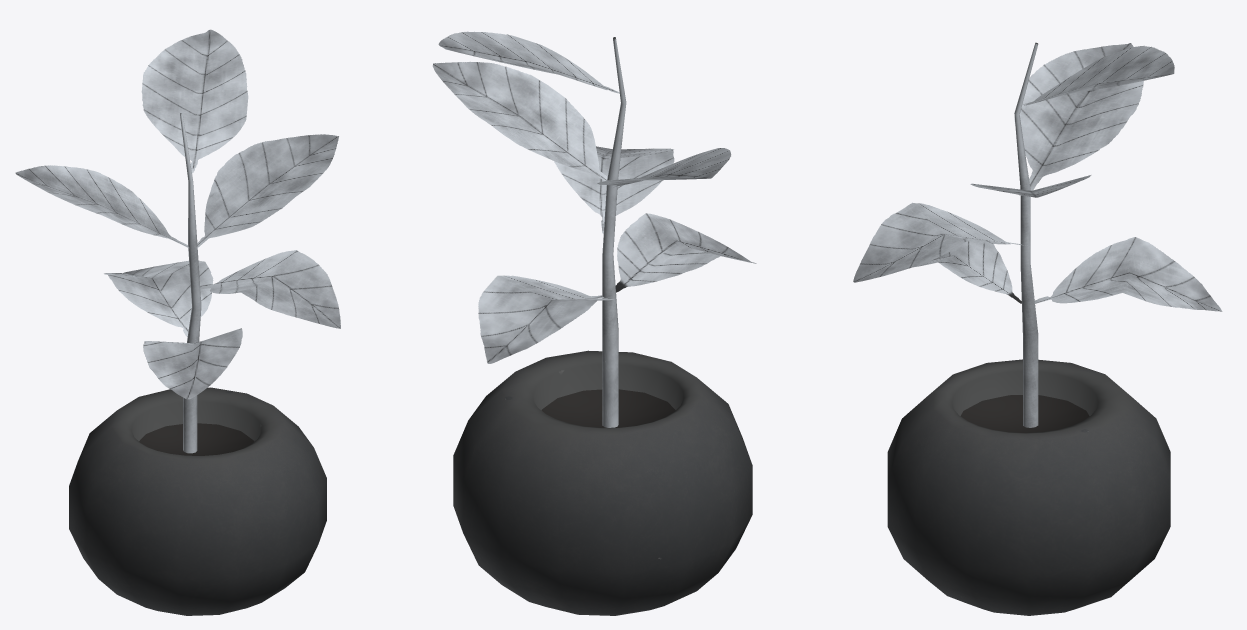
The model's file is Modern_PottedPlant_Unchecked2_ME.fbx.
3 views of the same model, side by side, from view 1: azimuth 30°, elevation 25°; view 2: azimuth 150°, elevation 25°; view 3: azimuth 270°, elevation 25° (orthographic). The views are drawn at different scales.
Visible parts, largest first — view 1: PottedPlant; view 2: PottedPlant; view 3: PottedPlant.
Boxes of the visible parts, x1,y1,x2,y2 form: PottedPlant: (15,29,340,615); PottedPlant: (432,31,756,615); PottedPlant: (853,42,1222,615).
Bounding box in the file's own units: 22.61 × 36.04 × 22.92.
1 material, 1 textured.
